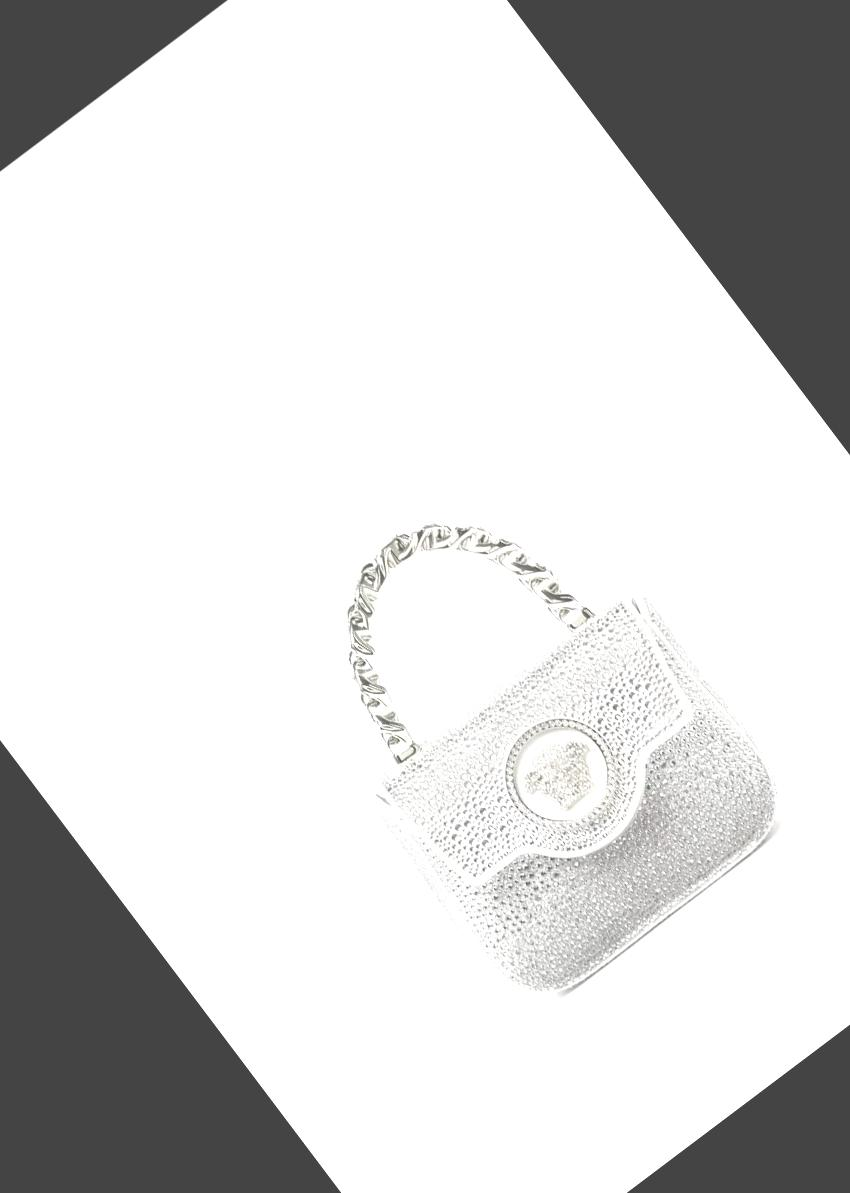VERSACE: (482, 694, 639, 852)
